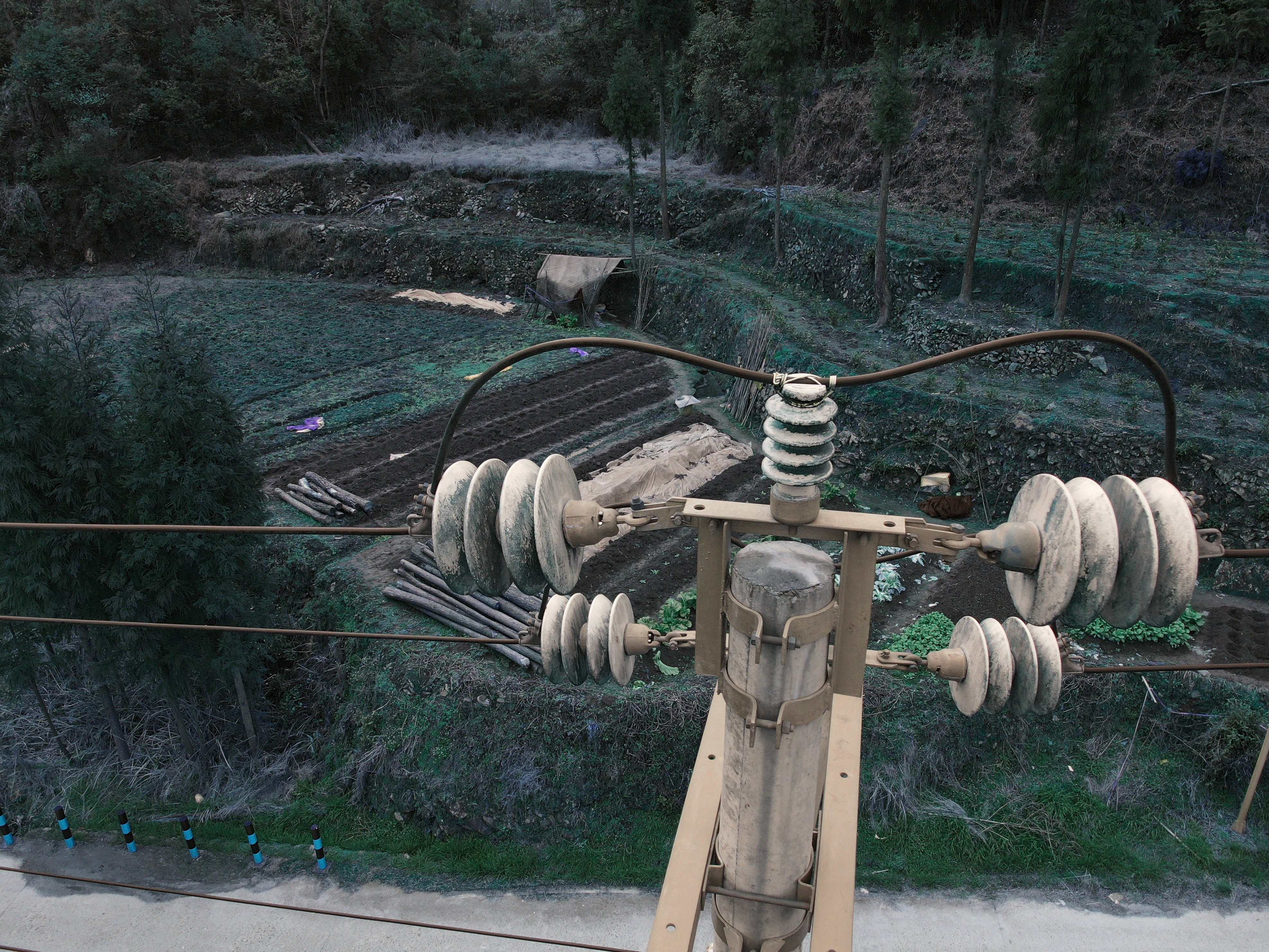severe_soiling_no_discharge_whole: (980, 468, 1201, 630), (428, 451, 617, 598), (930, 614, 1062, 720), (758, 373, 841, 525), (537, 589, 661, 688)
